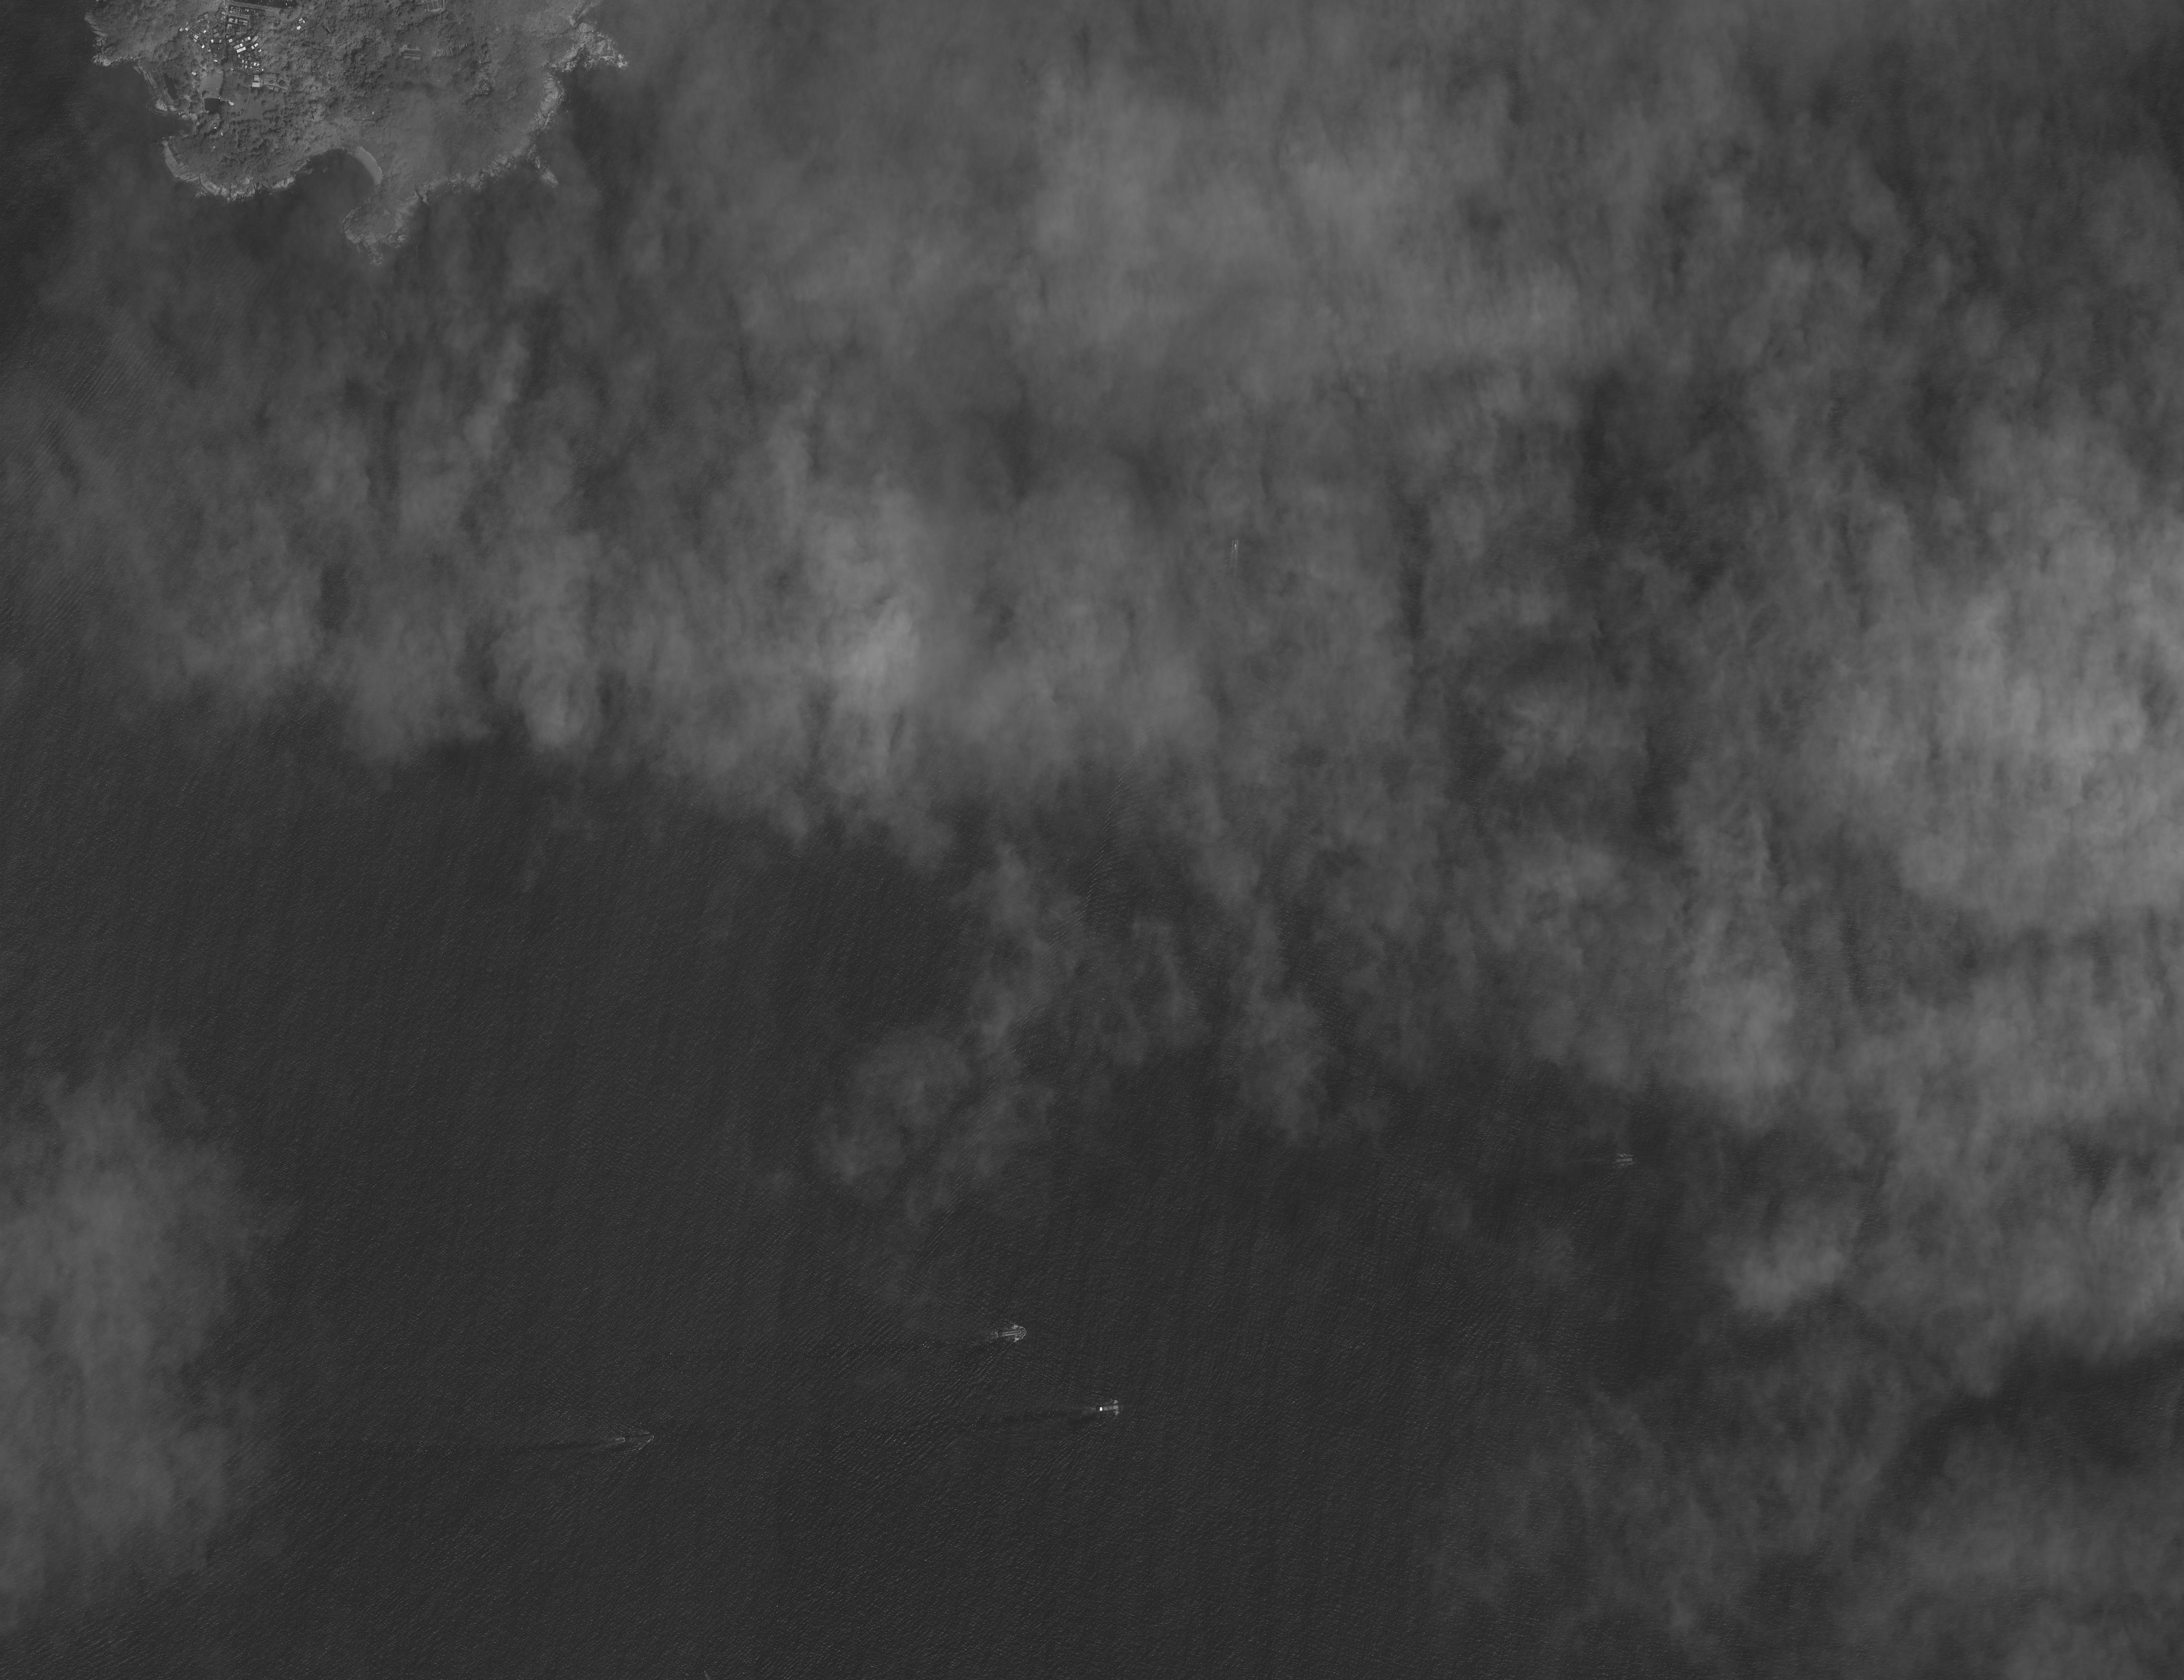ship: (991, 1329, 1027, 1341), (623, 1433, 654, 1444), (1096, 1403, 1126, 1414), (1611, 1156, 1635, 1165), (1233, 538, 1238, 551)
